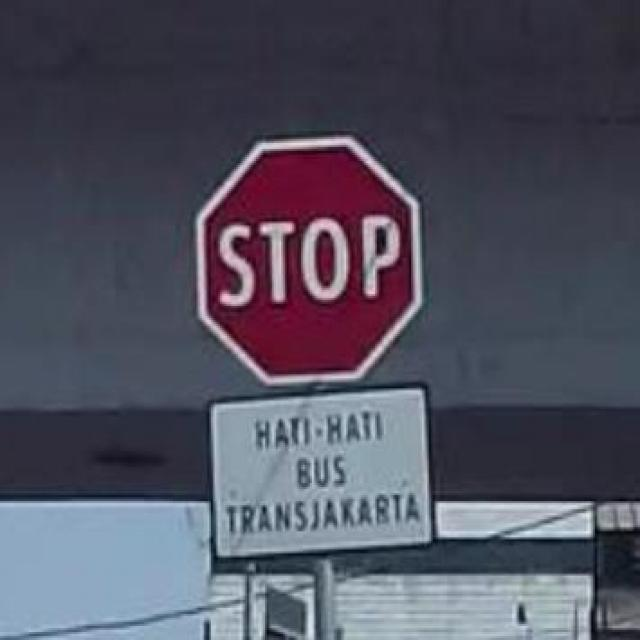traffic sign: (202, 147, 426, 380)
